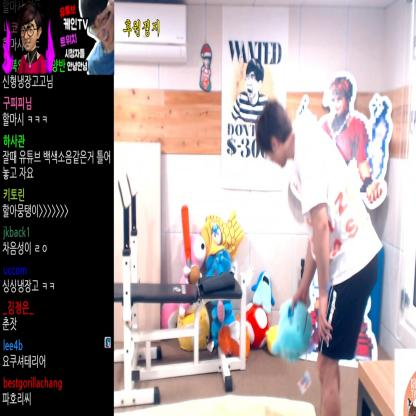streamer: (256, 100, 383, 416)
